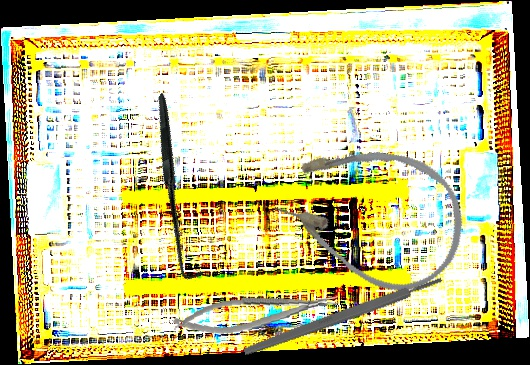Cannula: (258, 117, 483, 309)
Hook Surgical: (83, 92, 274, 285)
Needle Holder: (170, 287, 342, 340)
Scalpel Handle: (242, 274, 444, 358)
